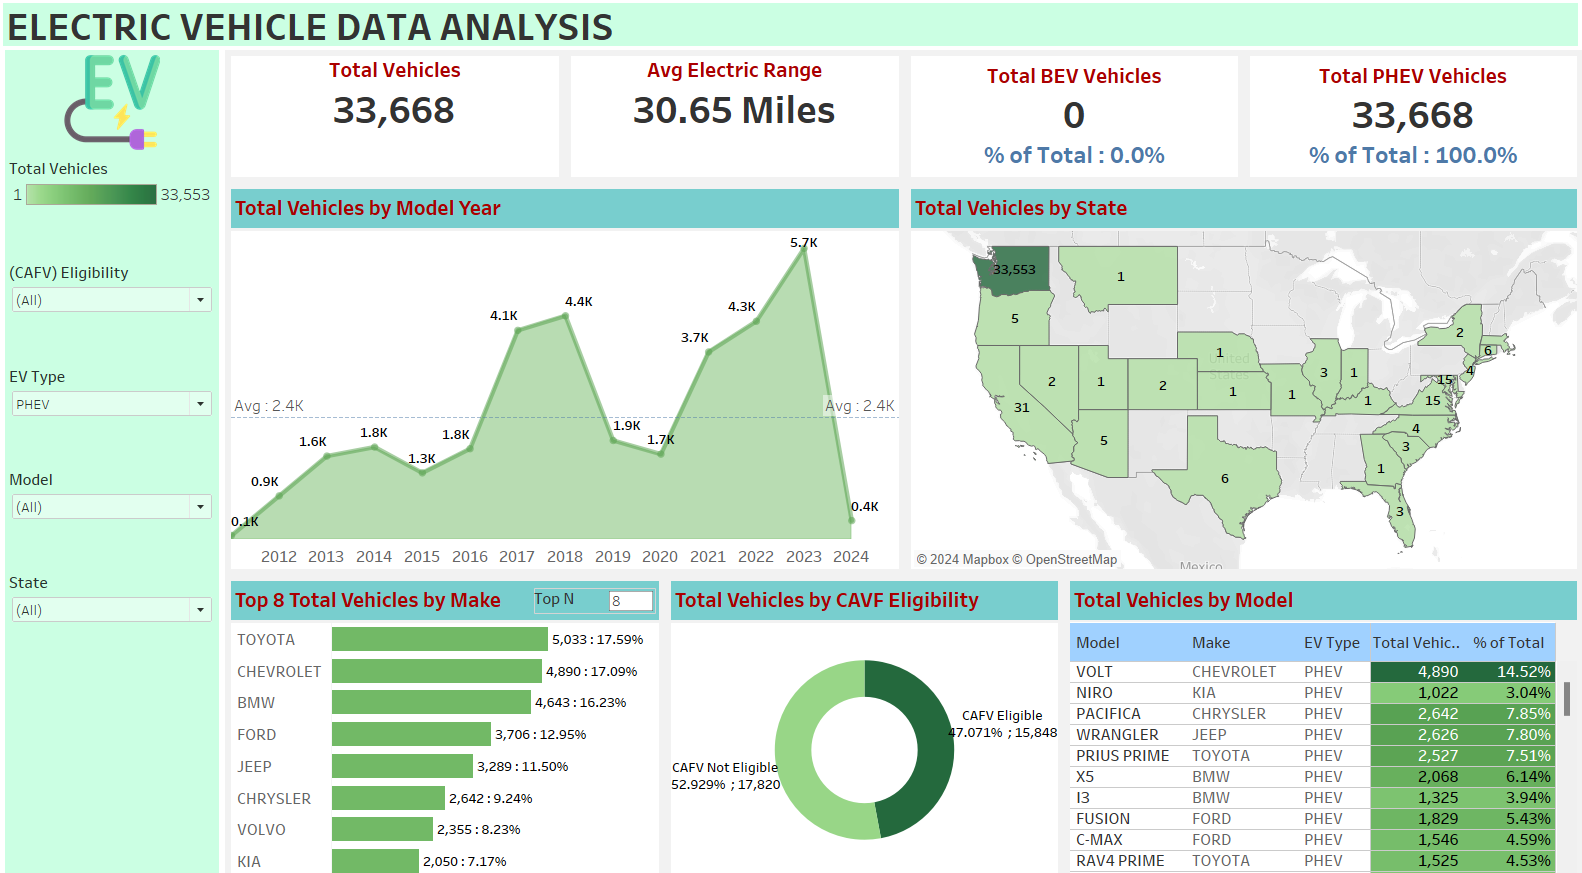

This screenshot's page, from the dashboard's own definition file:
{"tool":"tableau","page":{"name":"Dashboard 1","canvas":[1600,900],"ordinal":0},"visuals":[{"type":"title","box":[8,8,1584,51]},{"type":"image","param":"C:/Users/DELL/Downloads/Data Science/6944173.png","box":[14,59,214,104]},{"type":"worksheet","title":"Total Vehicles","mark":"Automatic","box":[234,59,340,133]},{"type":"worksheet","title":"Average Electric Range","mark":"Automatic","box":[574,59,340,133]},{"type":"worksheet","title":"Total BEV Vehicles","mark":"Automatic","box":[914,59,339,133]},{"type":"worksheet","title":"Total PHEV Vehicles","mark":"Automatic","box":[1253,59,339,133]},{"type":"legend","title":"Total Vehicles by State","param":"[federated.05fgtl0035v8321cy6ovk067le1p].[usr:Calculation_931963666717634560:qk]","box":[14,163,214,104]},{"type":"worksheet","title":"Total Vehicles by Model Year","mark":"Area","rows":["Calculation_931963666717634560","Calculation_931963666717634560"],"cols":["Model Year"],"box":[234,192,680,392]},{"type":"worksheet","title":"Total Vehicles by State","mark":"Multipolygon","box":[914,192,678,392]},{"type":"filter","title":"Total Vehicles by Model Year","param":"[federated.05fgtl0035v8321cy6ovk067le1p].[none:Clean Alternative Fuel Vehicle (C","box":[14,267,214,104]},{"type":"filter","title":"Total Vehicles by Model Year","param":"[federated.05fgtl0035v8321cy6ovk067le1p].[none:Electric Vehicle Type:nk]","box":[14,371,214,103]},{"type":"filter","title":"Total Vehicles by Model Year","param":"[federated.05fgtl0035v8321cy6ovk067le1p].[none:Model:nk]","box":[14,474,214,103]},{"type":"filter","title":"Total Vehicles by Model Year","param":"[federated.05fgtl0035v8321cy6ovk067le1p].[none:State:nk]","box":[14,577,214,103]},{"type":"worksheet","title":"Top 10 Total Vehicles by Make","mark":"Automatic","rows":["Make"],"cols":["Calculation_931963666717634560"],"box":[234,584,440,308]},{"type":"worksheet","title":"Total Vehicles by CAVF Eligibility","mark":"Pie","rows":["Calculation_931963666740314119","Calculation_931963666740314119"],"box":[674,584,399,308]},{"type":"worksheet","title":"Total Vehicles by Model","mark":"Square","rows":["Model","Make","Electric Vehicle Type"],"box":[1073,584,519,308]},{"type":"parameter","param":"[Parameters].[Parameter 1]","box":[543,597,122,26]},{"type":"blank","box":[14,680,214,103]},{"type":"blank","box":[14,783,214,103]}]}

Visuals, with their boxes in screenshot pixels (x1, y1, x2, y2), scaled from the page's 1600x900 canvas onto the 1582x873 screenshot:
title: <box>8,8,1574,57</box>
image: <box>14,57,225,158</box>
"Total Vehicles" worksheet: <box>231,57,568,186</box>
"Average Electric Range" worksheet: <box>568,57,904,186</box>
"Total BEV Vehicles" worksheet: <box>904,57,1239,186</box>
"Total PHEV Vehicles" worksheet: <box>1239,57,1574,186</box>
"Total Vehicles by State" legend: <box>14,158,225,259</box>
"Total Vehicles by Model Year" worksheet (Area marks): <box>231,186,904,566</box>
"Total Vehicles by State" worksheet (Multipolygon marks): <box>904,186,1574,566</box>
"Total Vehicles by Model Year" filter: <box>14,259,225,360</box>
"Total Vehicles by Model Year" filter: <box>14,360,225,460</box>
"Total Vehicles by Model Year" filter: <box>14,460,225,560</box>
"Total Vehicles by Model Year" filter: <box>14,560,225,660</box>
"Top 10 Total Vehicles by Make" worksheet: <box>231,566,666,865</box>
"Total Vehicles by CAVF Eligibility" worksheet (Pie marks): <box>666,566,1061,865</box>
"Total Vehicles by Model" worksheet (Square marks): <box>1061,566,1574,865</box>
parameter: <box>537,579,658,604</box>
blank: <box>14,660,225,760</box>
blank: <box>14,760,225,859</box>
